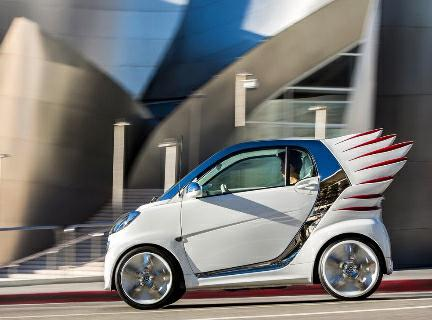smart-forjeremy: (109, 138, 394, 302)
